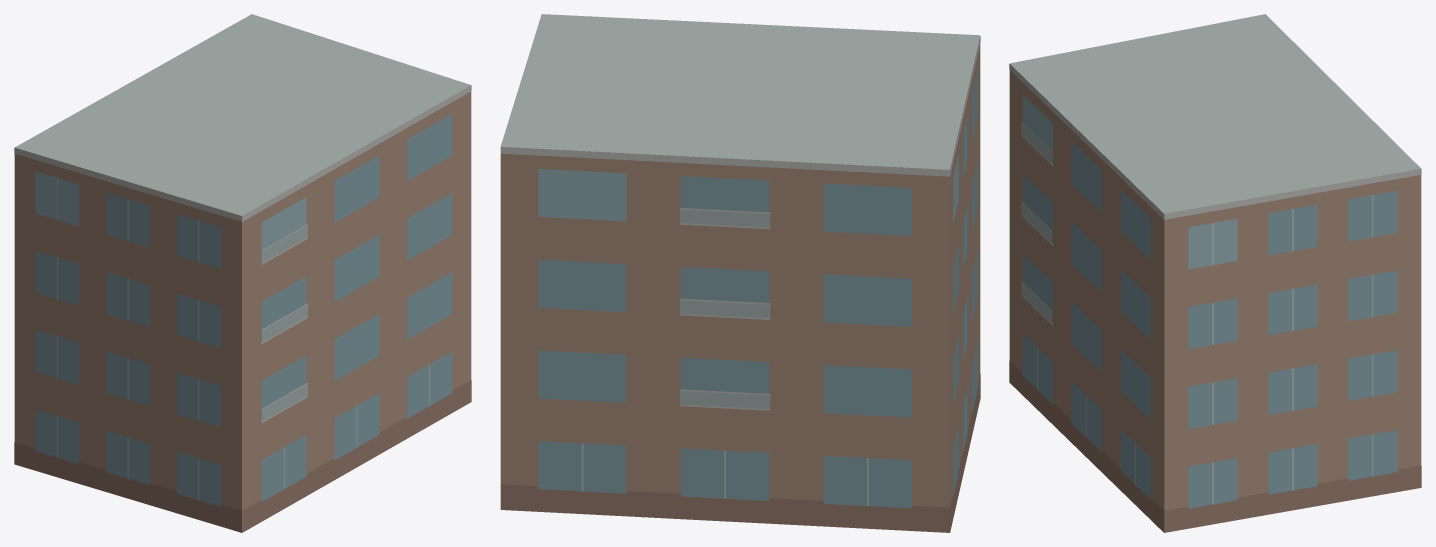
Rendered from survey-upis-32762032.glb.
3 views of the same model, side by side, from view 1: azimuth 30°, elevation 25°; view 2: azimuth 150°, elevation 25°; view 3: azimuth 270°, elevation 25° (orthographic). The views are drawn at different scales.
Parts seen in each view (by area): view 1: survey-upis-32762032.tmp; view 2: survey-upis-32762032.tmp; view 3: survey-upis-32762032.tmp.
Boxes of the visible parts, x1,y1,x2,y2 form: survey-upis-32762032.tmp: (14,14,471,532); survey-upis-32762032.tmp: (500,14,980,532); survey-upis-32762032.tmp: (1009,14,1421,532).
Size of the model in its own units: 17.41 by 12.95 by 15.17.
